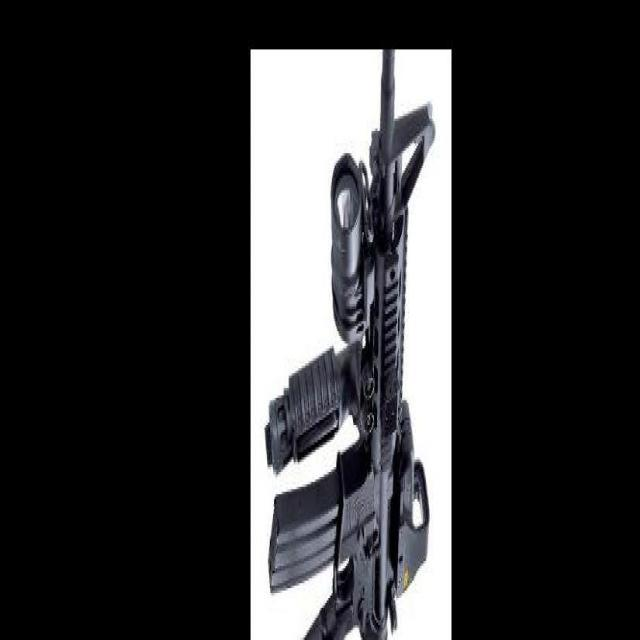weapon: (263, 48, 436, 640)
